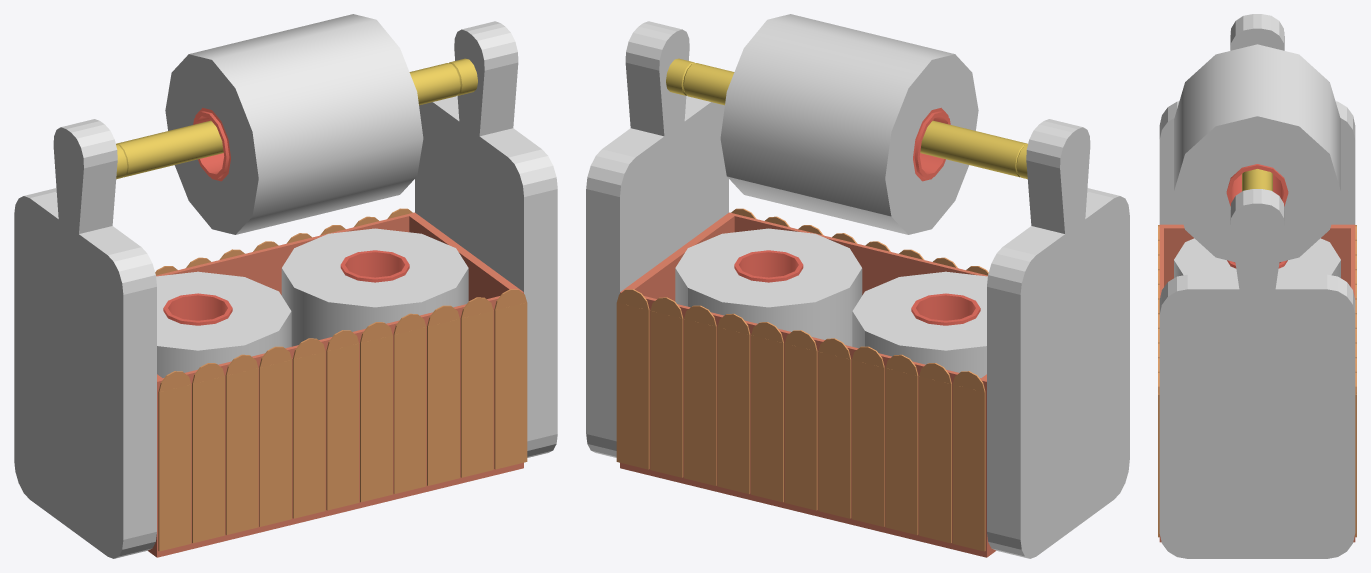
File: Peçetelik.fbx
The picture shows the model from 3 angles, left to right: view 1: azimuth 30°, elevation 25°; view 2: azimuth 150°, elevation 25°; view 3: azimuth 270°, elevation 25°; orthographic projection. The views are drawn at different scales.
Parts seen in each view (by area): view 1: Peçetelik; view 2: Peçetelik; view 3: Peçetelik.
Part boxes in pixels (<box>): Peçetelik: <box>14,14,557,558</box>; Peçetelik: <box>586,14,1129,558</box>; Peçetelik: <box>1158,14,1356,558</box>.
Bounding box in the file's own units: 459 × 438 × 203.
